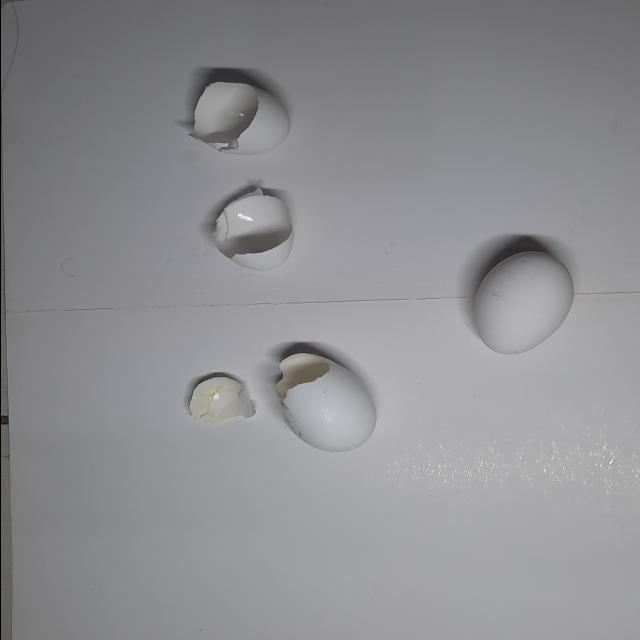egg shell: (462, 242, 580, 360), (270, 344, 383, 460), (174, 74, 296, 160), (202, 183, 298, 275), (186, 373, 262, 427)
